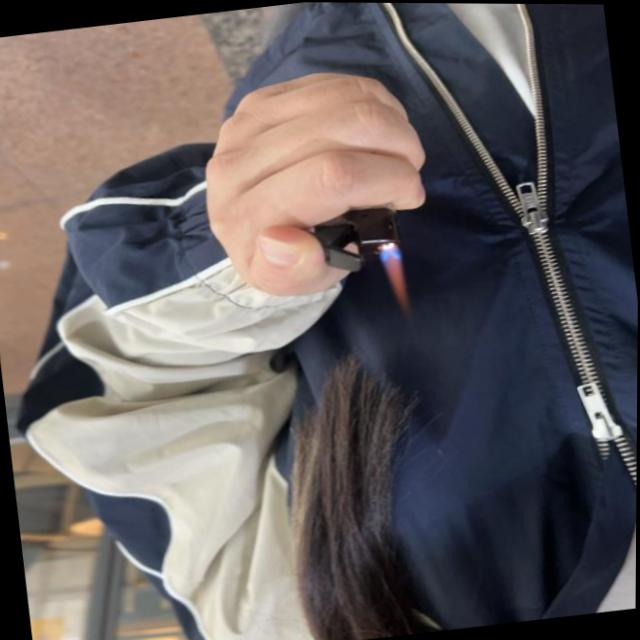Fire: (379, 240, 414, 312)
